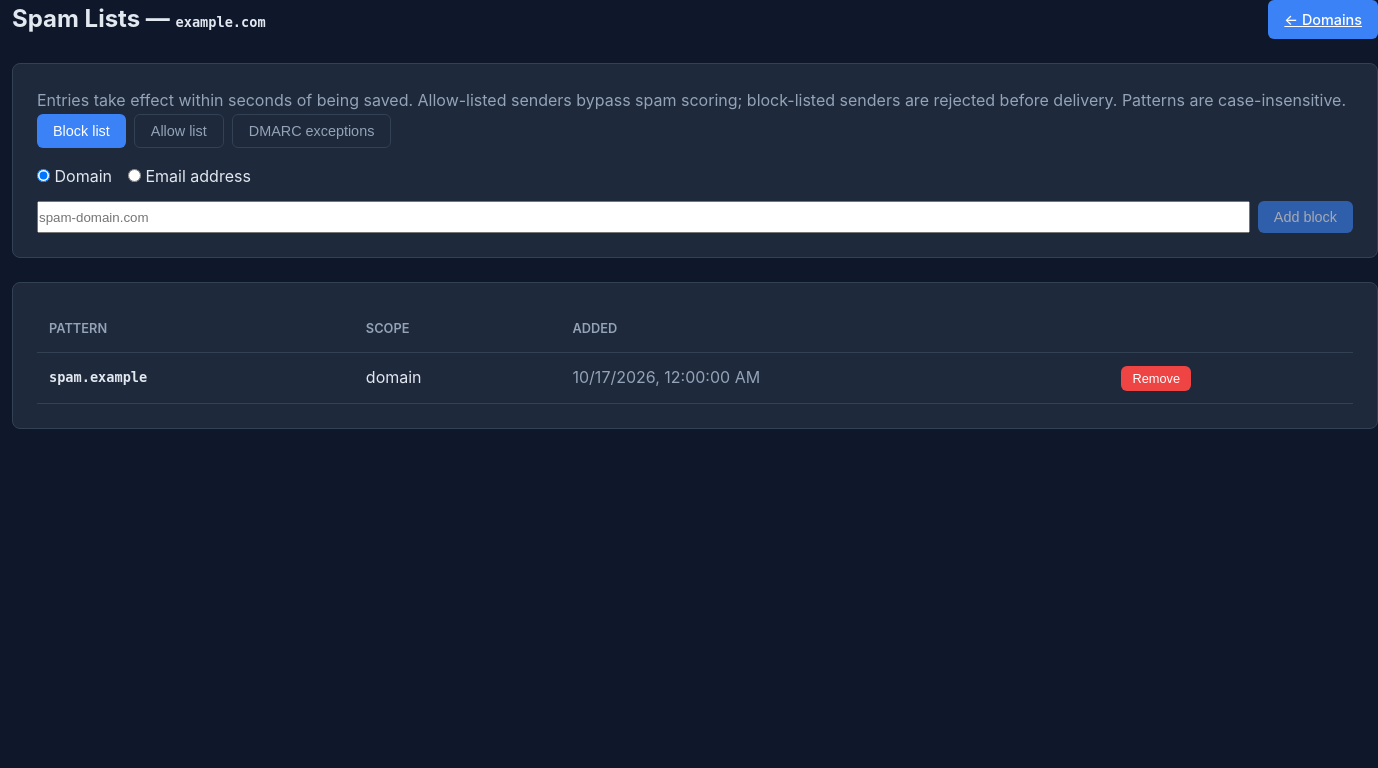
Test case: SpamListsPage — rejected by DMARC (#265 follow-up) › says so when nothing was rejected
Check: the text "spam.example" is shown, box left=49, top=369, right=147, bottom=385
Click the button "DMARC exceptions". click: (312, 131)
box: left=232, top=114, right=391, bottom=148
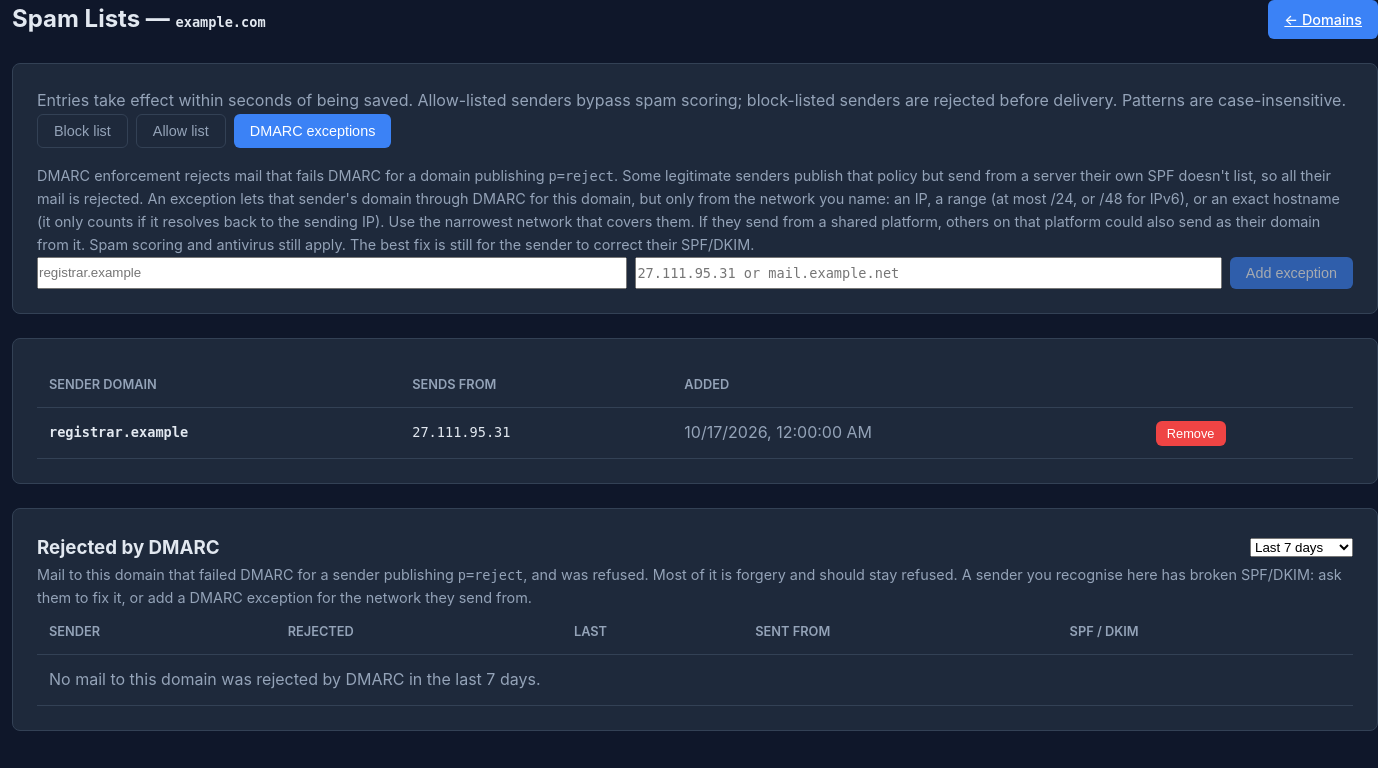
Check: the text "No mail to this domain was rejected by DMARC in the last 7 days." is shown, box left=37, top=654, right=1353, bottom=705
